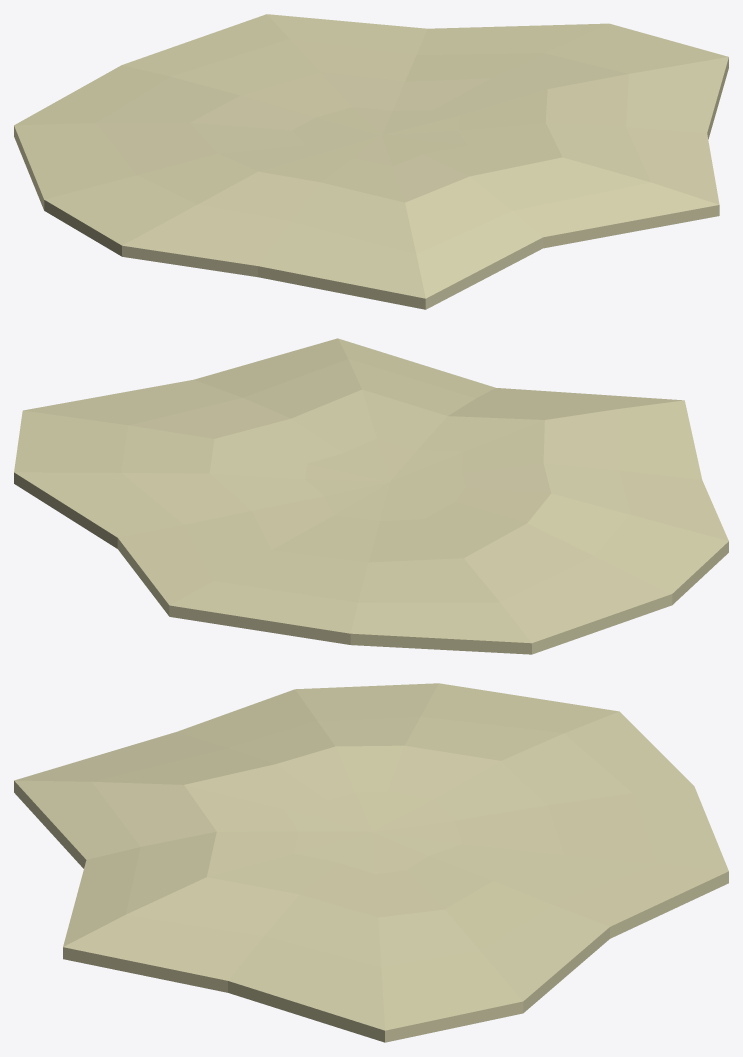
Rendered from terrain_001b_rolling.glb.
The picture shows the model from 3 angles, top to bottom: view 1: azimuth 30°, elevation 25°; view 2: azimuth 150°, elevation 25°; view 3: azimuth 270°, elevation 25°; orthographic projection. The views are drawn at different scales.
Parts seen in each view (by area): view 1: terrain_001b_rolling__mesh; view 2: terrain_001b_rolling__mesh; view 3: terrain_001b_rolling__mesh.
Part boxes in pixels (bbox=[...]): terrain_001b_rolling__mesh: bbox=[14, 14, 728, 309]; terrain_001b_rolling__mesh: bbox=[14, 338, 728, 654]; terrain_001b_rolling__mesh: bbox=[14, 683, 728, 1042].
Size of the model in its own units: 5.58 by 0.2859 by 4.85.
